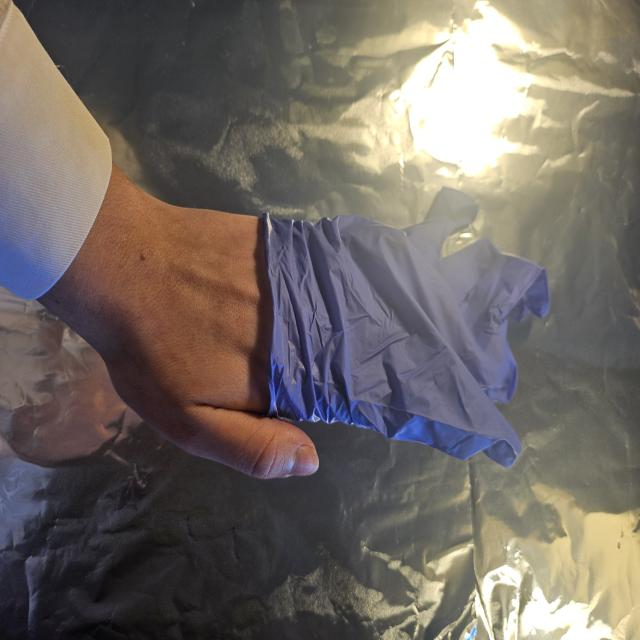glove_partial: (101, 185, 552, 482)
